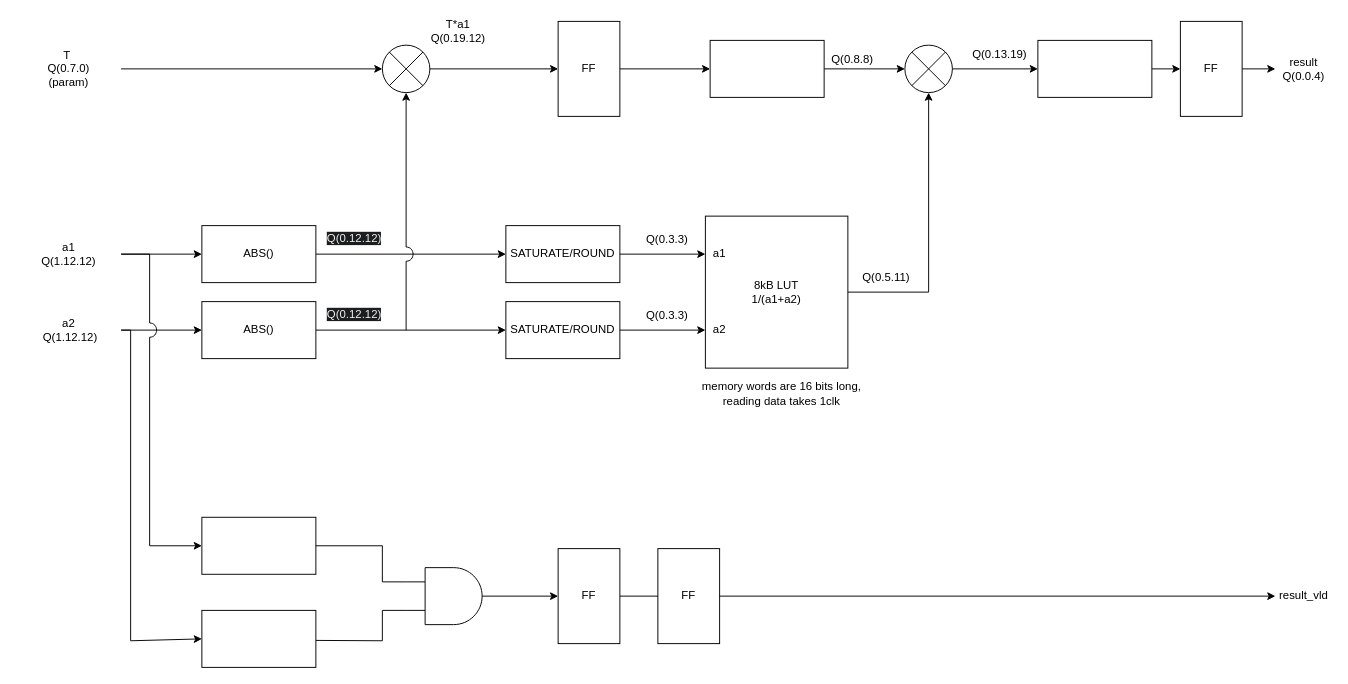
The diagram is 1348 pixels wide and 684 high, and some of its shapes have lost their labels. Each missing label, with the centre of its shape:
"a1 < 0" belongs at point 258,545.
"a2 > 0" belongs at point 258,638.
"SAT & ROUND" belongs at point 1094,68.
"SAT & TRUNC" belongs at point 766,68.
